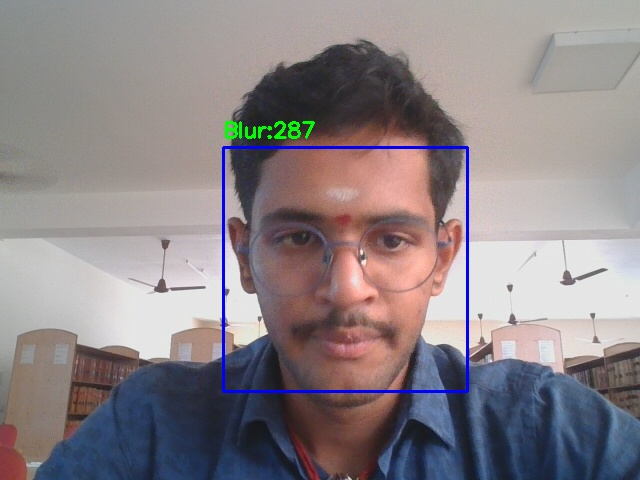real: (223, 147, 467, 391)
